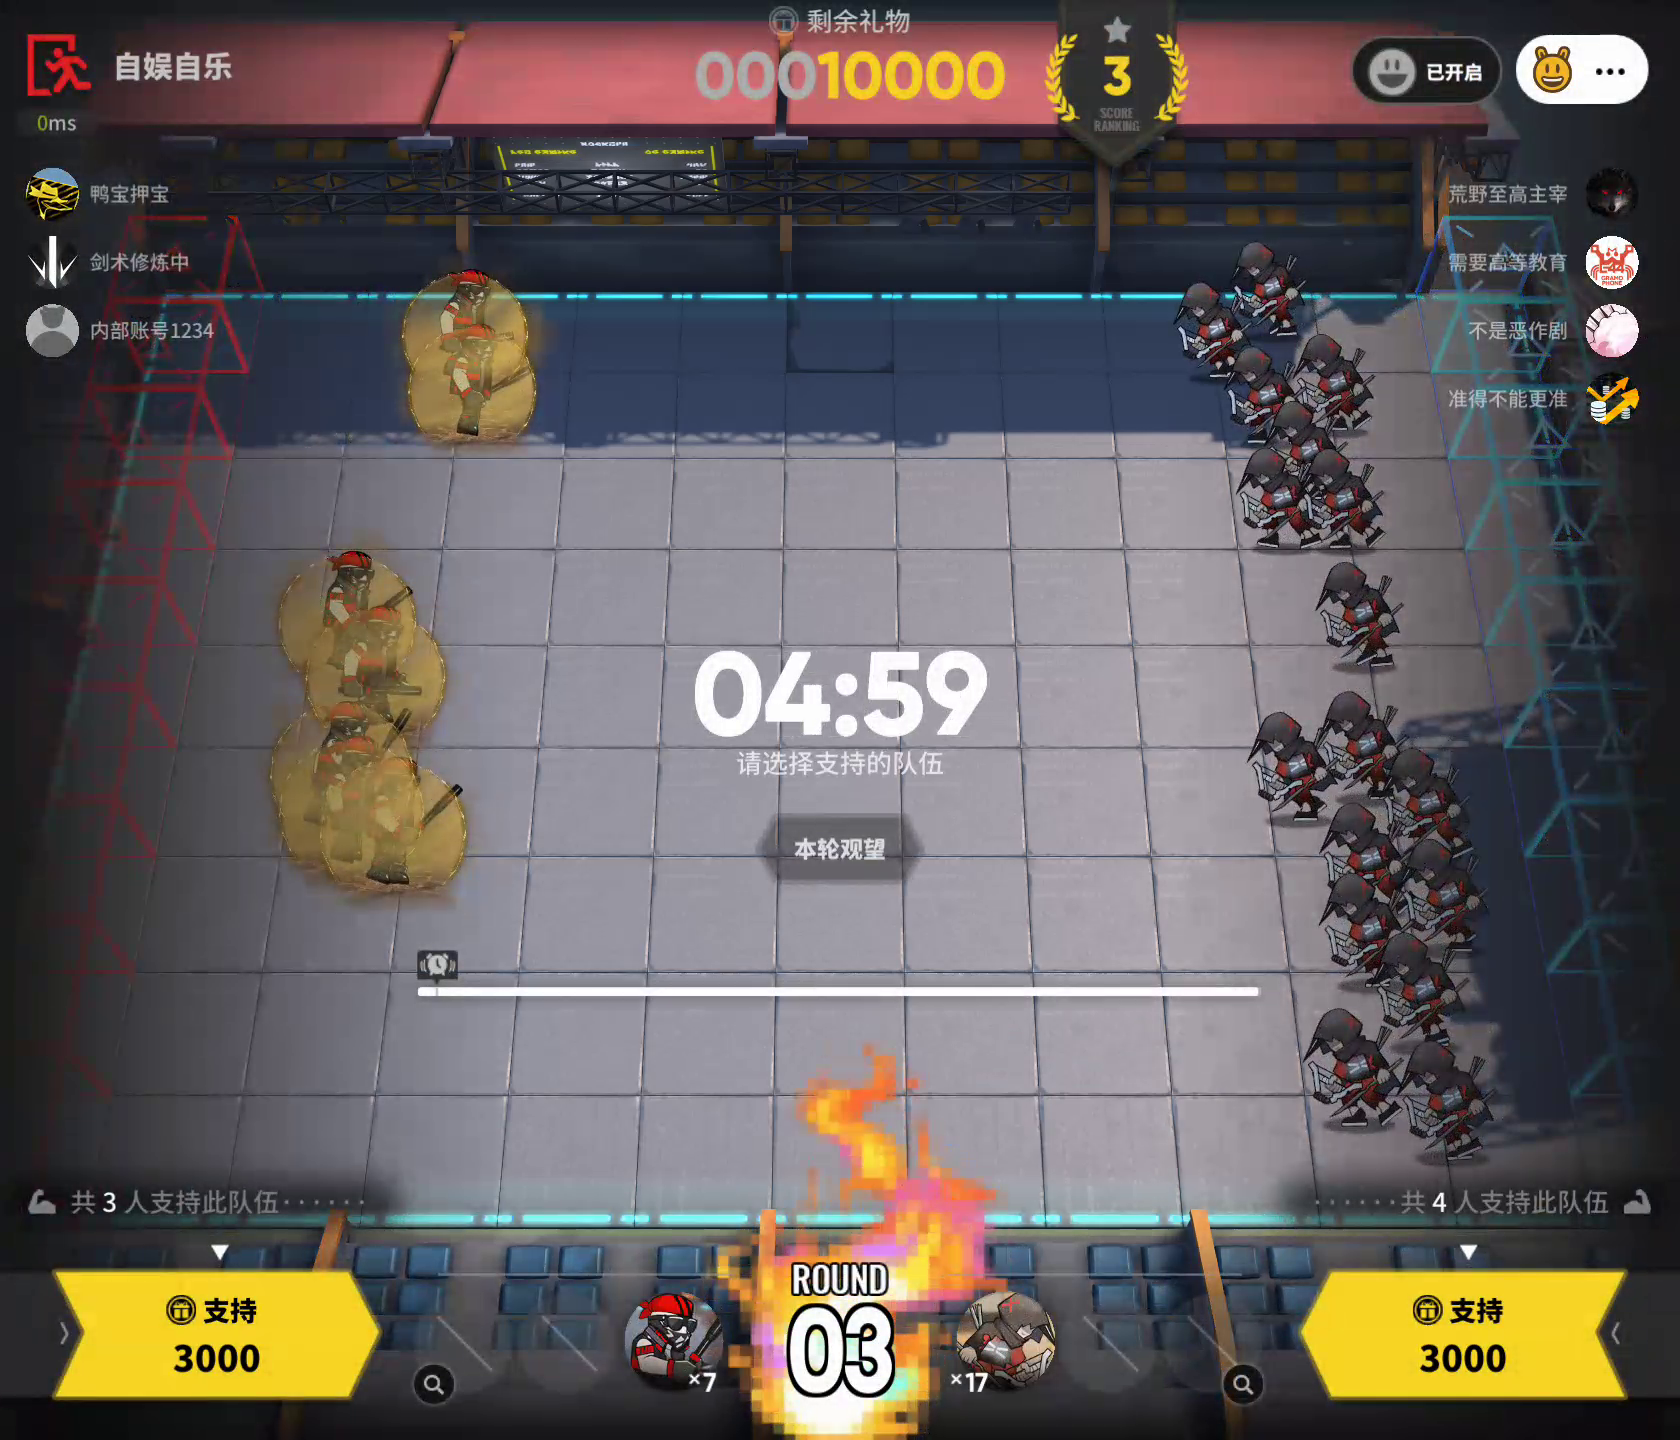玻璃球打手: (266, 689, 419, 846), (277, 541, 434, 689), (319, 754, 469, 899), (391, 254, 539, 394), (294, 601, 451, 731), (407, 321, 549, 453), (283, 724, 407, 863), (626, 1289, 726, 1394)
衣架射手: (1290, 1001, 1409, 1134), (1391, 1039, 1506, 1163), (950, 1286, 1066, 1394), (1369, 927, 1469, 1046), (1311, 554, 1413, 669), (1401, 839, 1499, 956), (1381, 743, 1479, 860), (1320, 689, 1419, 803), (1246, 704, 1337, 826), (1314, 867, 1409, 984), (1229, 236, 1321, 347), (1169, 274, 1261, 381), (1300, 446, 1389, 556), (1290, 327, 1377, 439), (1231, 449, 1324, 551), (1220, 340, 1300, 449), (1321, 800, 1411, 894), (1263, 400, 1344, 469)
